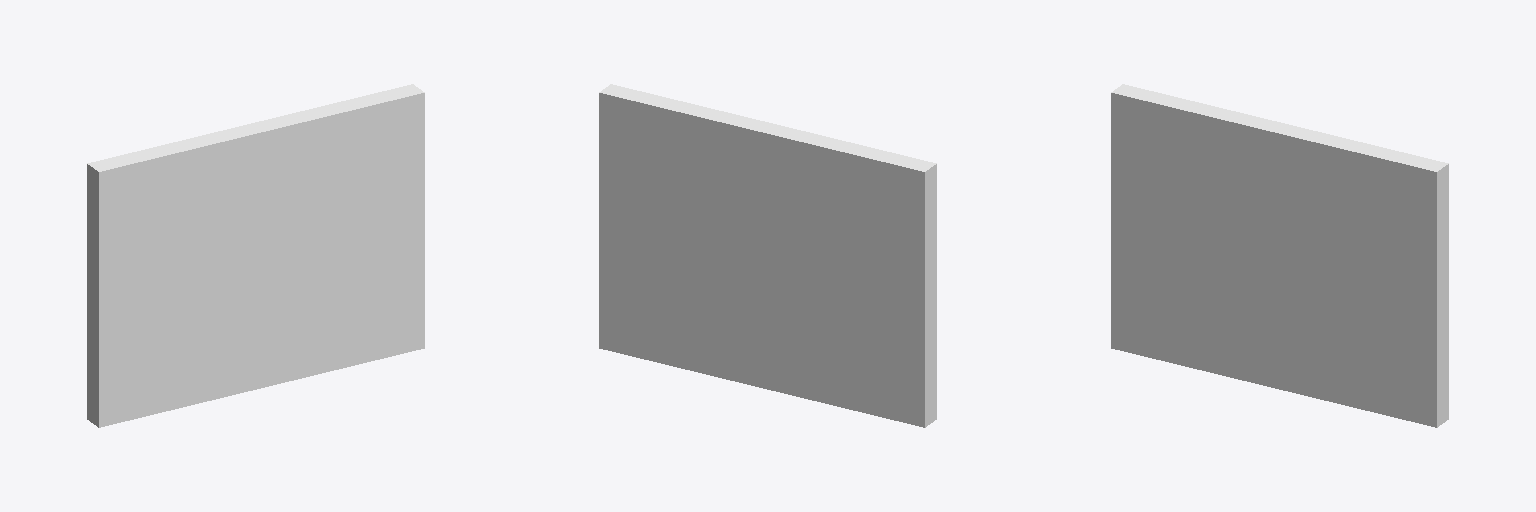
Rendered from ScreenOn.obj.
3 views of the same model, side by side, from view 1: azimuth 30°, elevation 25°; view 2: azimuth 150°, elevation 25°; view 3: azimuth 330°, elevation 25° (orthographic).
Visible parts, largest first — view 1: object 1; view 2: object 1; view 3: object 1.
Part boxes in pixels (x1,y1,x2,y2): object 1: (87,84,424,427); object 1: (599,84,936,427); object 1: (1111,84,1448,427).
Size of the model in its own units: 1.6 by 1.2 by 0.1.